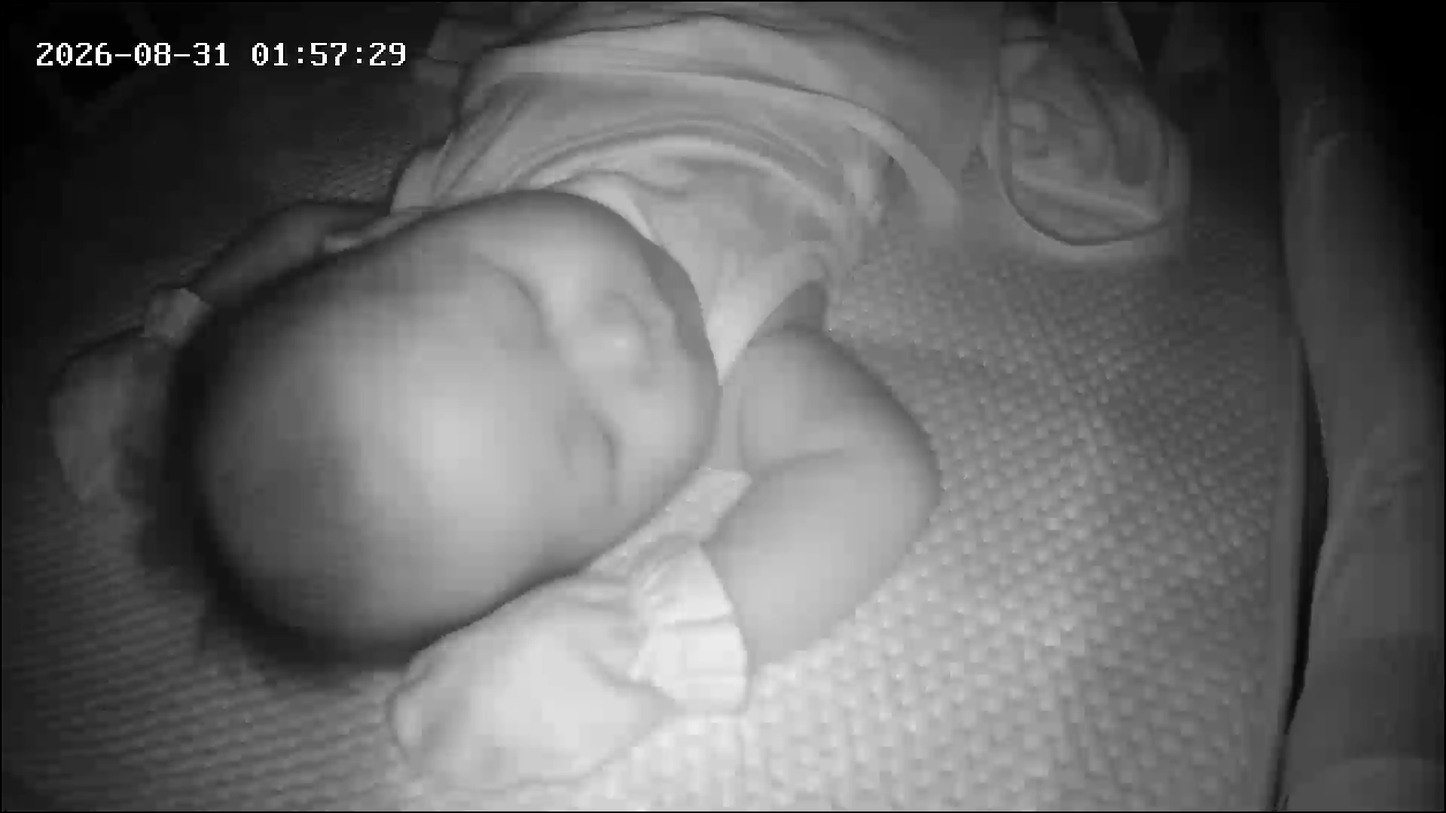baby: (101, 2, 1022, 722)
baby_face: (121, 170, 720, 666)
